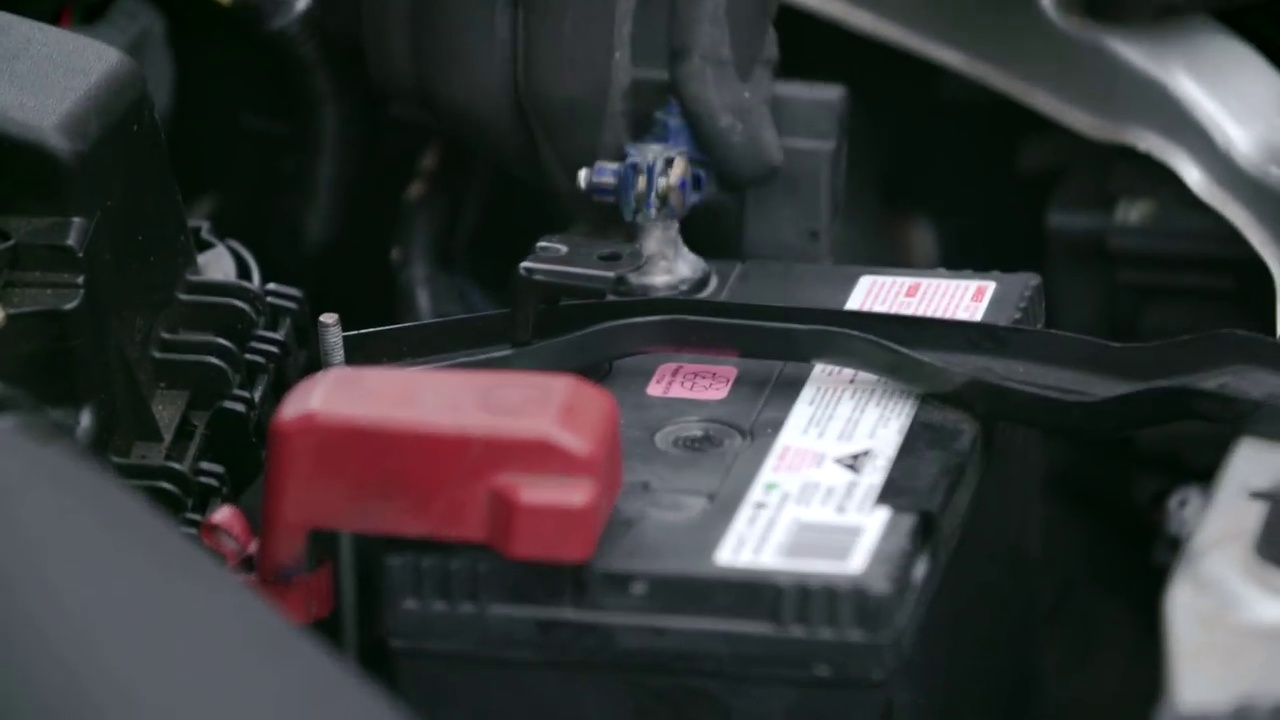battery: (386, 236, 1040, 601)
neg_connected: (563, 117, 748, 305)
pos_connected: (240, 345, 626, 604)
